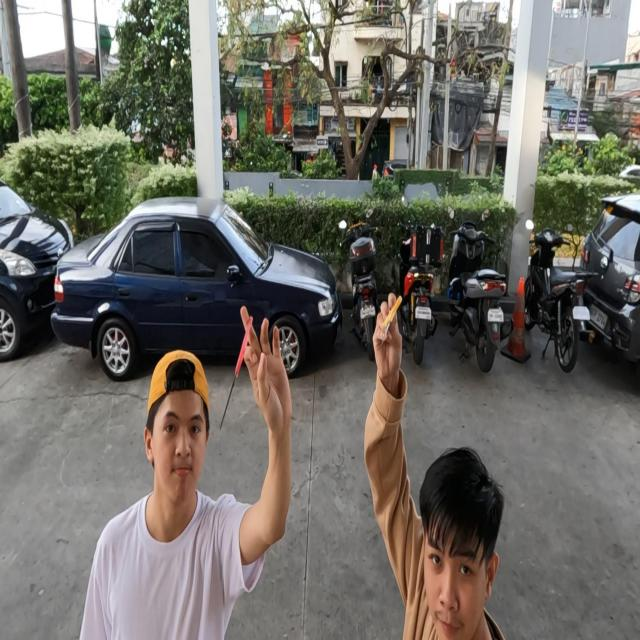scissor: (219, 310, 253, 432), (380, 294, 403, 346)
